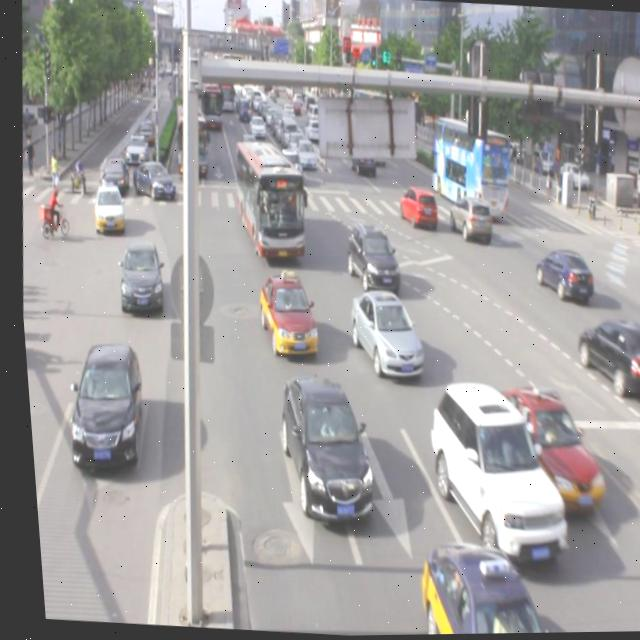car: (412, 377, 569, 569), (266, 370, 375, 527), (485, 386, 605, 516), (405, 536, 543, 636), (56, 337, 145, 475), (339, 288, 423, 380), (566, 313, 640, 404), (249, 270, 318, 360), (338, 220, 399, 296), (111, 237, 164, 318), (525, 245, 592, 304), (441, 193, 491, 245), (394, 184, 436, 230)
van: (225, 139, 308, 261)
